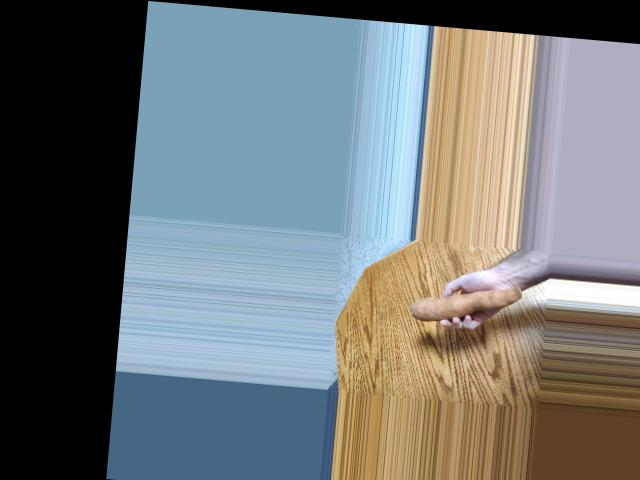sweet_potato: (406, 281, 517, 331)
